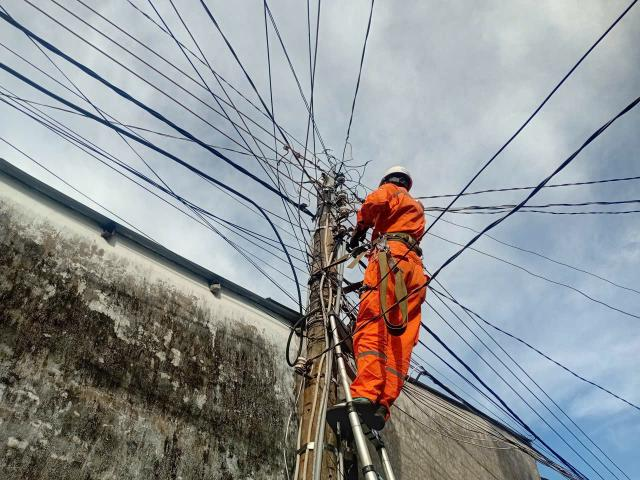gloves: (341, 214, 377, 255)
harness: (365, 222, 428, 261)
helmet: (379, 158, 414, 195)
shoes: (328, 383, 368, 415), (360, 399, 397, 431)
